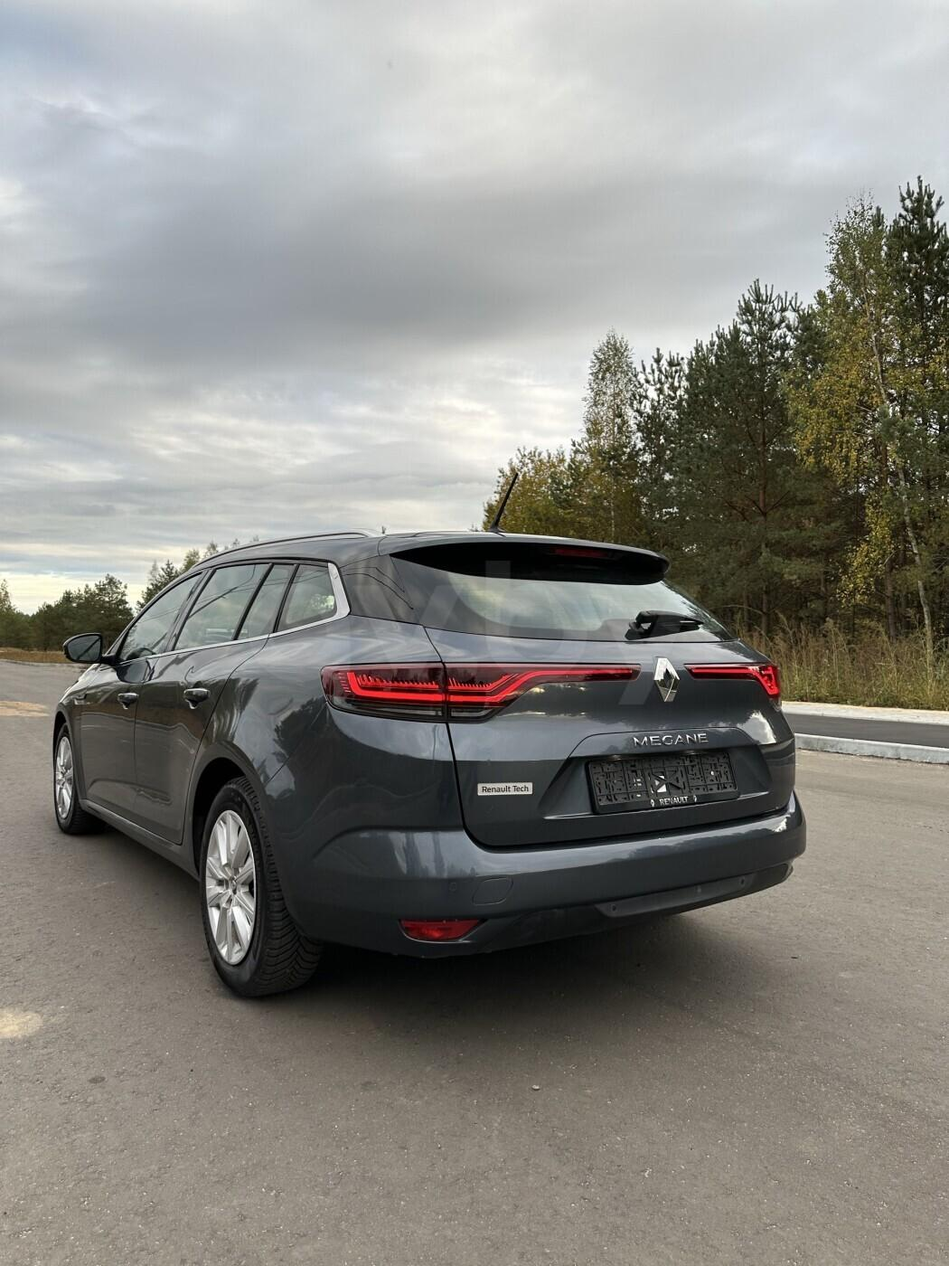Megane_2020: (54, 535, 804, 1029)
